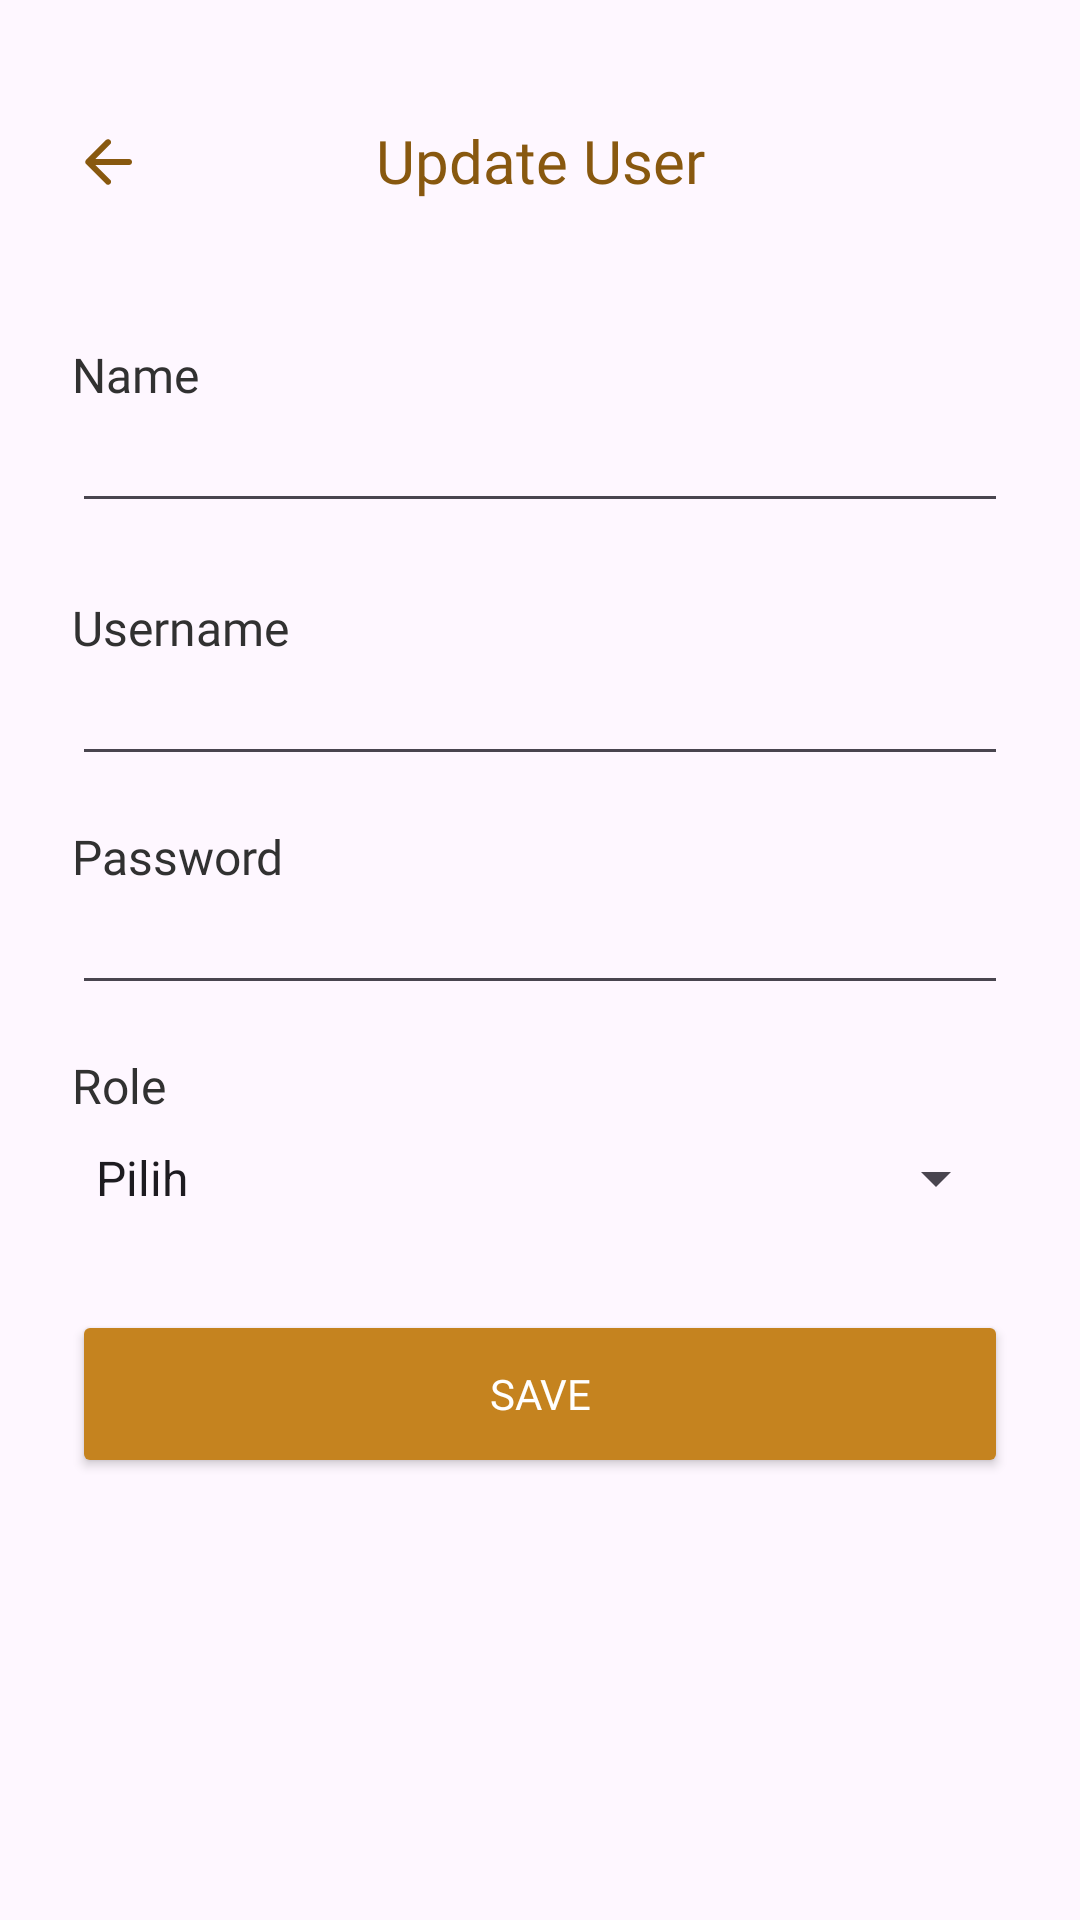

Screen size 1080w x 1920h. Icon name, then its center in pixels as (x=x, y=y):
back: (x=108, y=162)
